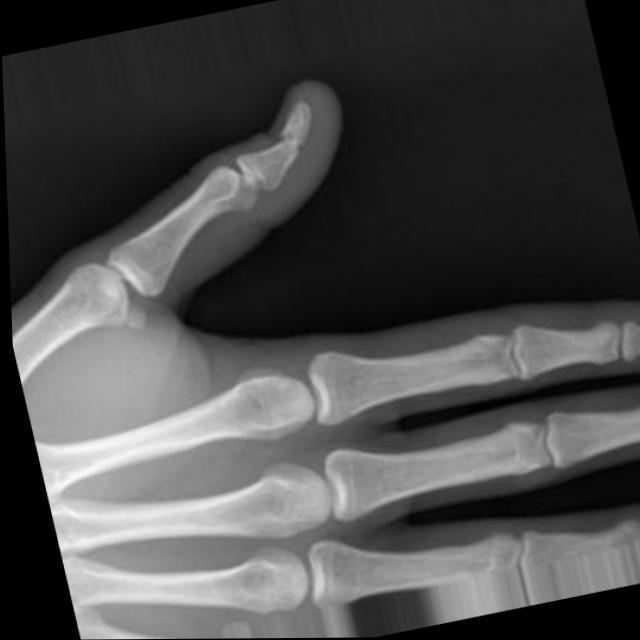fracture: (269, 121, 310, 163)
